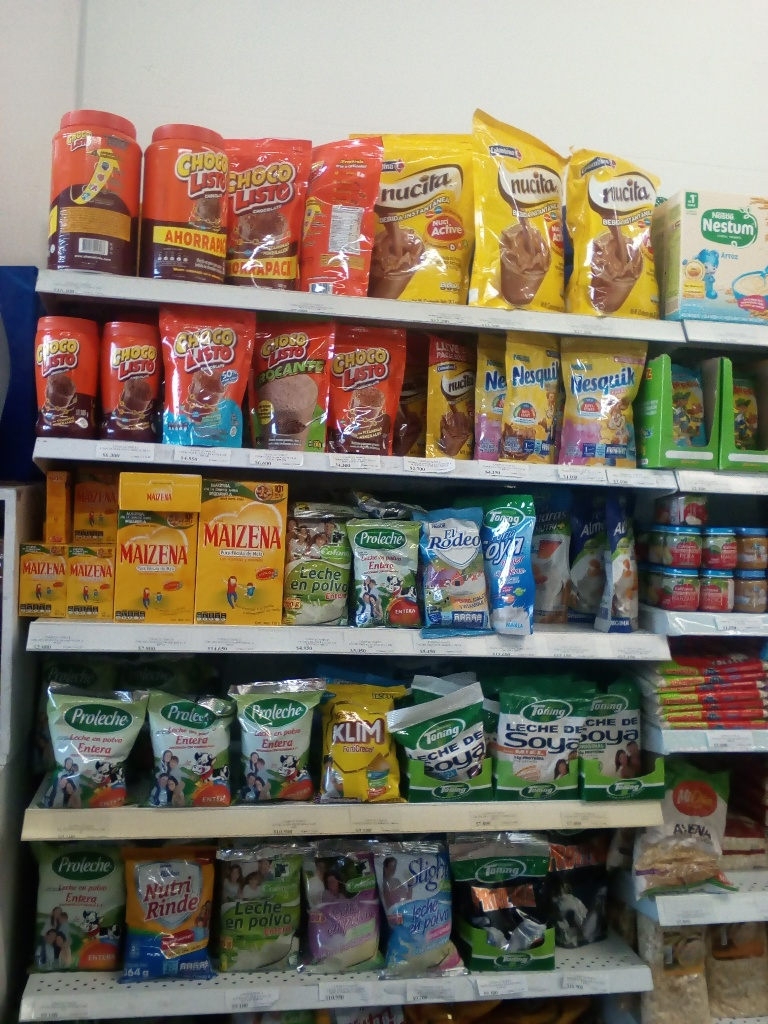COL0170102DYP25000: (252, 316, 337, 451)
COL0170103DYP1,500: (229, 140, 303, 289)
COL0170103TRR00100: (146, 114, 232, 284)
COL0170103TRR30000: (104, 320, 165, 442)
COL0170104DYP20000: (160, 304, 254, 448)
COL0170303DYP20000: (506, 332, 559, 464)
COL0170305DYP20000: (560, 336, 643, 470)
